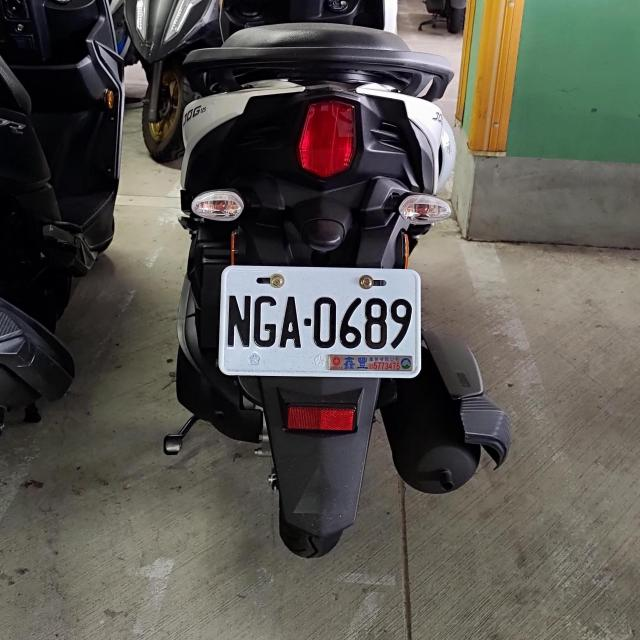W: (220, 266, 422, 376)
